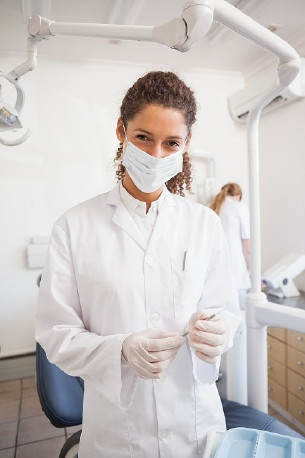Mask: (118, 122, 190, 194)
